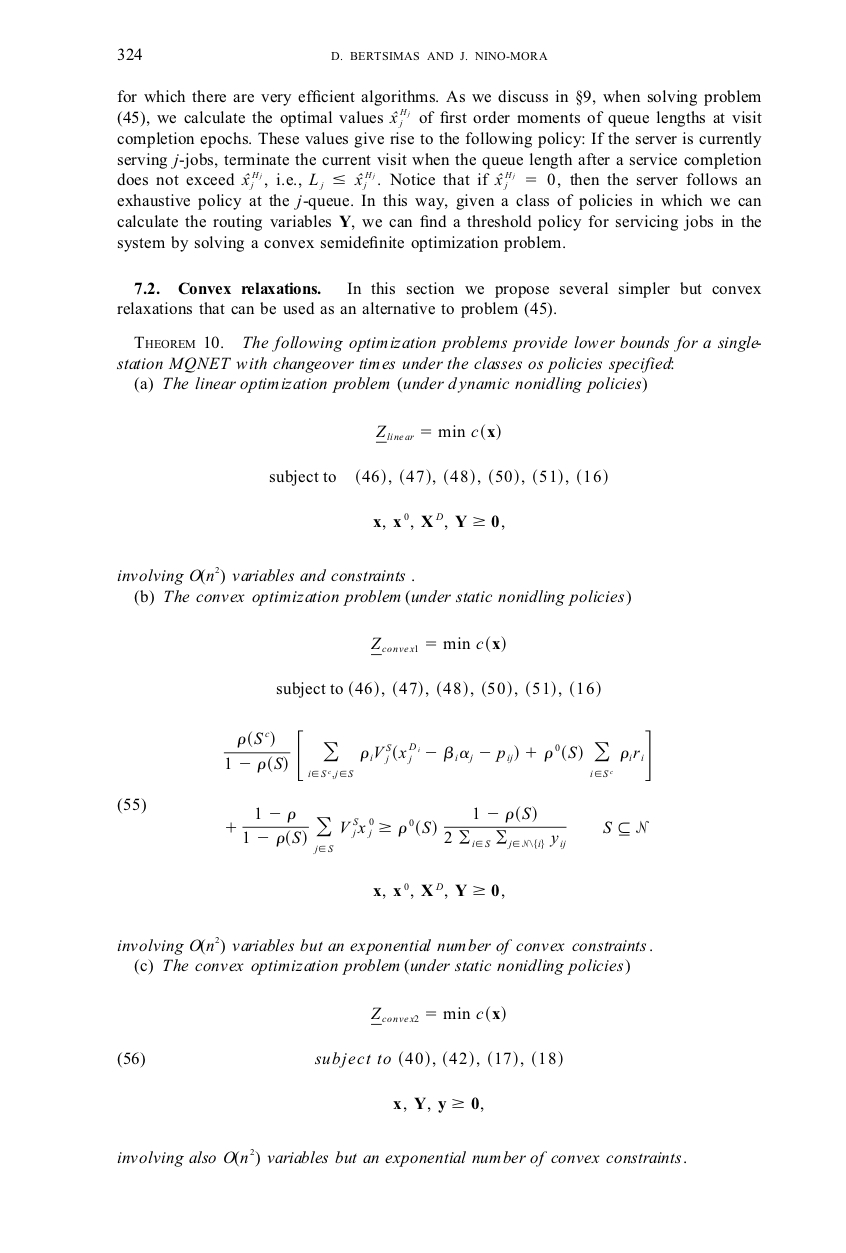formula: (117, 797, 648, 854), (223, 729, 650, 781), (117, 1050, 562, 1068), (269, 468, 607, 486), (276, 680, 600, 698), (371, 635, 505, 656), (371, 1005, 505, 1025), (376, 423, 500, 443), (373, 512, 504, 530), (373, 882, 504, 899), (393, 1096, 483, 1113)
